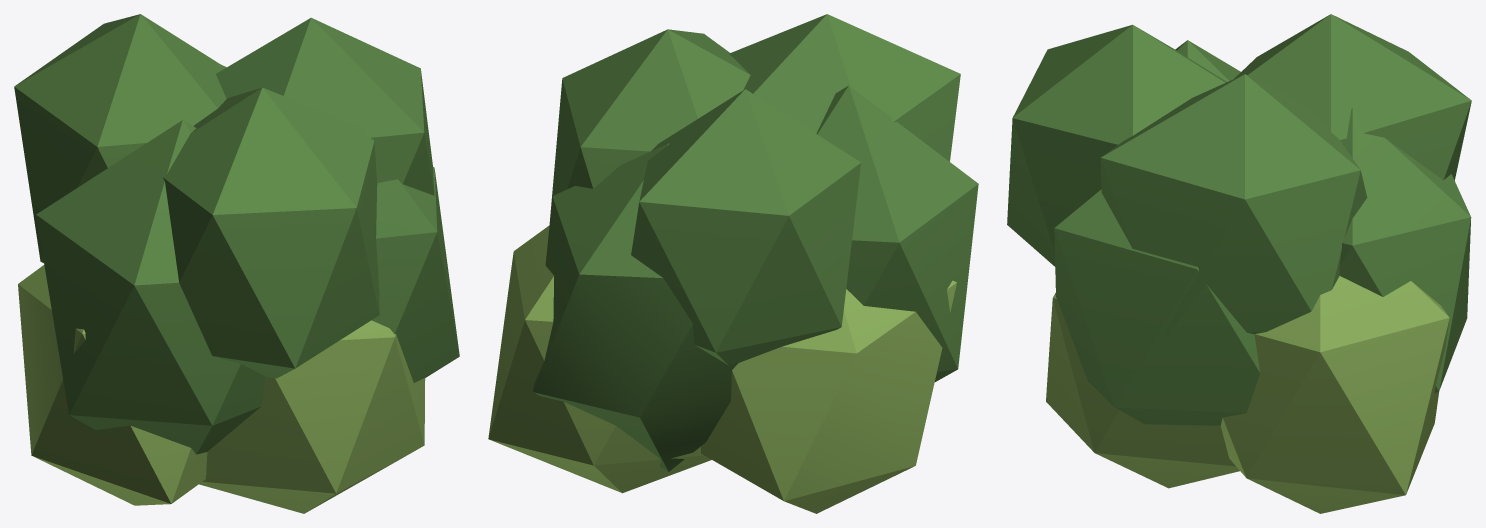
File: bush_a_c.glb
3 renders of one model, left to right at view 1: azimuth 30°, elevation 25°; view 2: azimuth 150°, elevation 25°; view 3: azimuth 270°, elevation 25°, orthographic. The views are drawn at different scales.
Parts seen in each view (by area): view 1: bush_a_c; view 2: bush_a_c; view 3: bush_a_c.
Boxes of the visible parts, <box> form: bush_a_c: <box>14,14,459,513</box>; bush_a_c: <box>488,14,978,513</box>; bush_a_c: <box>1007,14,1471,513</box>.
Size of the model in its own units: 1.21 by 1.34 by 1.29.
